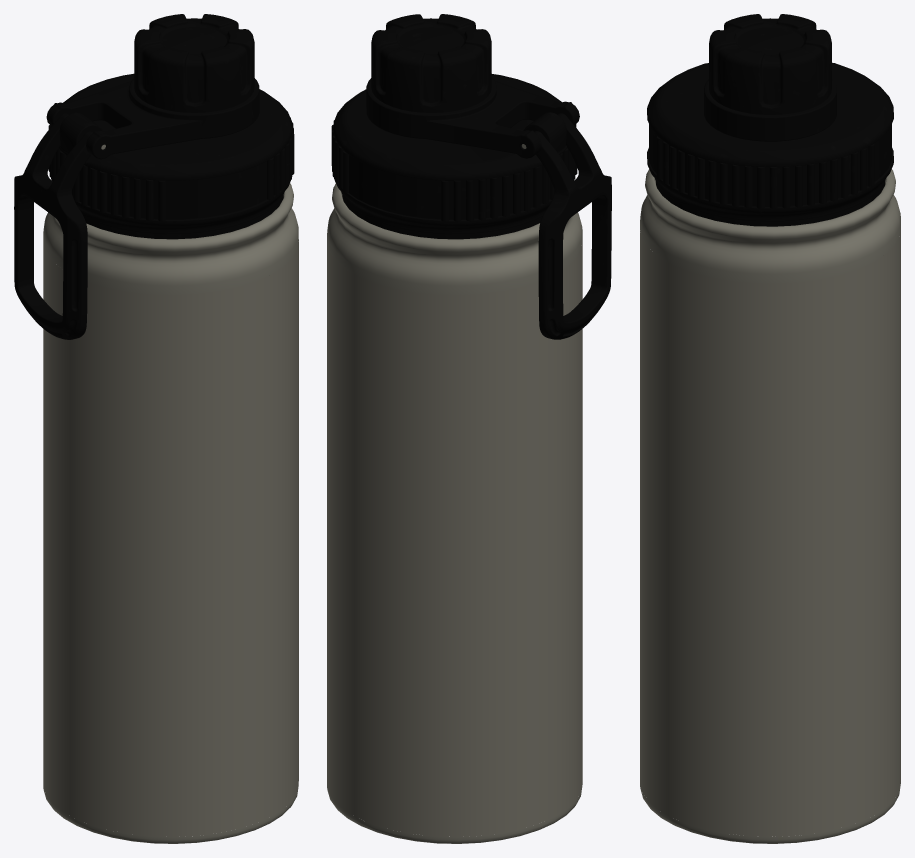
The model's file is Walrus- v3.glb.
3 renders of one model, left to right at view 1: azimuth 30°, elevation 25°; view 2: azimuth 150°, elevation 25°; view 3: azimuth 270°, elevation 25°, orthographic. The views are drawn at different scales.
Visible parts, largest first — view 1: Object001, Cylinder002, Cylinder001; view 2: Object001, Cylinder002, Cylinder001; view 3: Object001, Cylinder002, Cylinder001.
Boxes of the visible parts, left/top/right/bottom form: Object001: left=43, top=239, right=298, bottom=836; Cylinder002: left=14, top=14, right=294, bottom=339; Cylinder001: left=43, top=144, right=298, bottom=843; Object001: left=327, top=240, right=582, bottom=836; Cylinder002: left=331, top=14, right=611, bottom=339; Cylinder001: left=327, top=144, right=582, bottom=843; Object001: left=640, top=227, right=900, bottom=836; Cylinder002: left=647, top=14, right=893, bottom=226; Cylinder001: left=640, top=169, right=900, bottom=843.
Bounding box in the file's own units: 0.0845 × 0.2506 × 0.0774.
3 materials, 2 textured.
